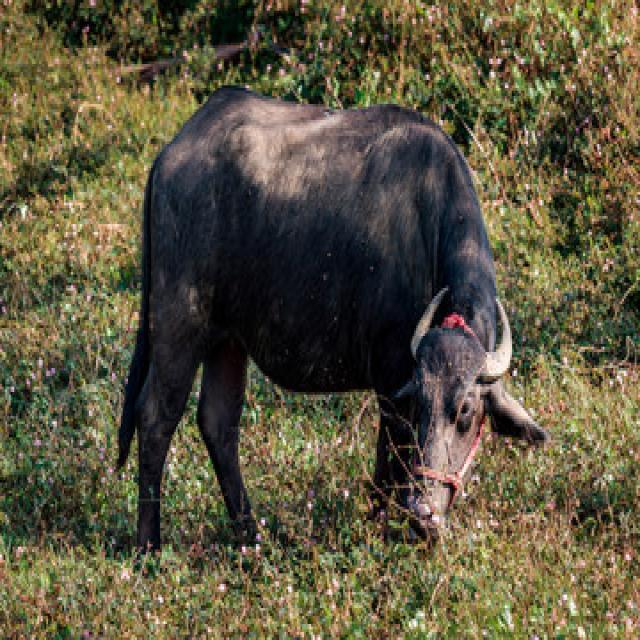Buffalo: (111, 77, 550, 560)
